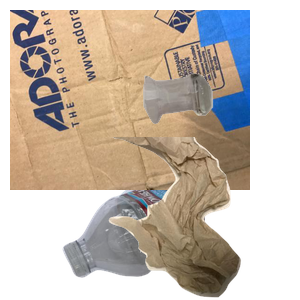cardboard: (10, 10, 250, 190)
glass: (141, 71, 300, 187)
plastic: (60, 190, 300, 280)
trash: (103, 137, 300, 300)
